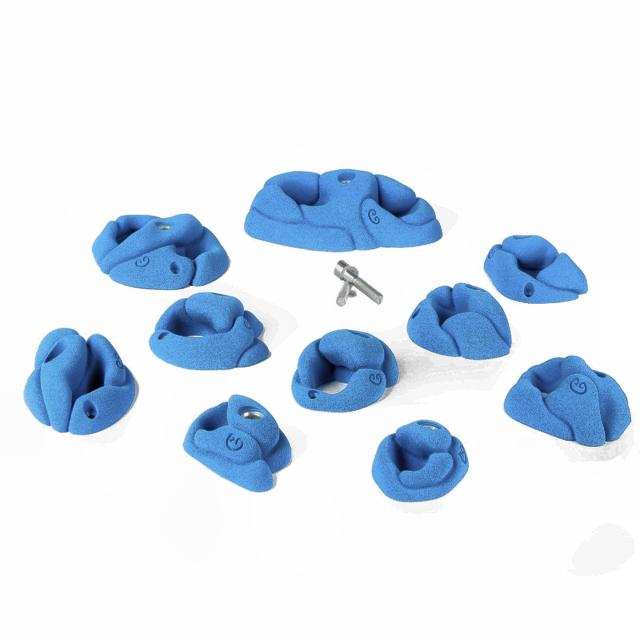Hold: (249, 169, 442, 254), (504, 351, 634, 447), (25, 327, 138, 432), (177, 386, 286, 494), (95, 207, 232, 286), (146, 288, 268, 371), (375, 415, 468, 504), (290, 332, 396, 409), (481, 231, 588, 305), (412, 286, 508, 356)
